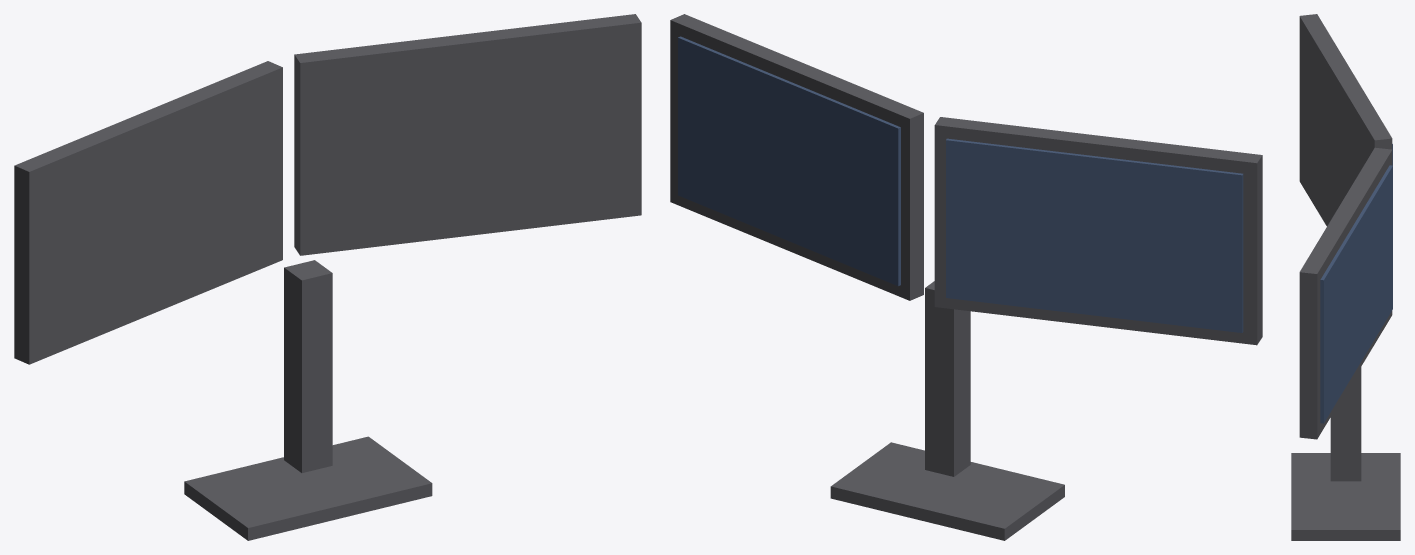
File: office_monitor2.glb
The picture shows the model from 3 angles, left to right: view 1: azimuth 30°, elevation 25°; view 2: azimuth 150°, elevation 25°; view 3: azimuth 270°, elevation 25°; orthographic projection. The views are drawn at different scales.
Parts seen in each view (by area): view 1: OFFICE_MONITOR2_v01; view 2: OFFICE_MONITOR2_v01; view 3: OFFICE_MONITOR2_v01.
Boxes of the visible parts, x1,y1,x2,y2 form: OFFICE_MONITOR2_v01: [14, 14, 641, 540]; OFFICE_MONITOR2_v01: [670, 14, 1262, 540]; OFFICE_MONITOR2_v01: [1291, 14, 1400, 540].
Size of the model in its own units: 1.01 by 0.65 by 0.18.
